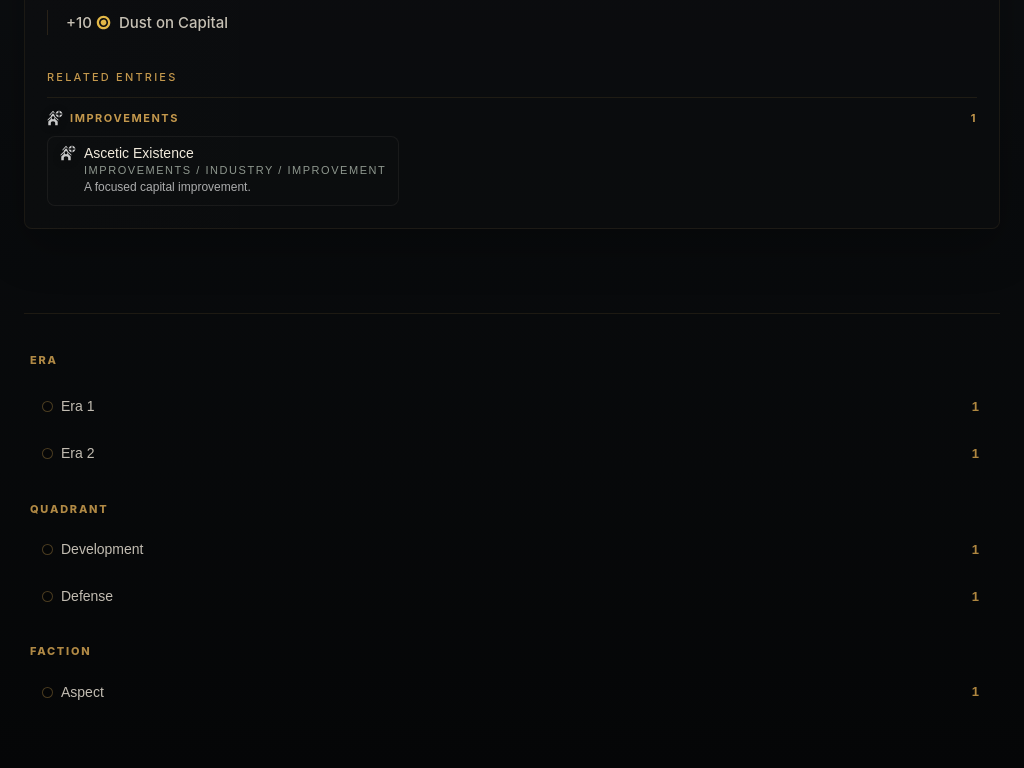
Test case: CodexPage Tech Equipment Hero Unit archives › renders the Tech archive with fact filters, effect previews, compact exact unlock links, and detail-to-filter reset
(page scrolled)
Expected: the button "Era 1 1" is shown, [30,384,990,428]
Expected: the button "Era 2 1" is shown, [30,432,990,476]
Click the button "Development 1".
click(102, 549)  # box [30,527,990,571]
(page scrolled)
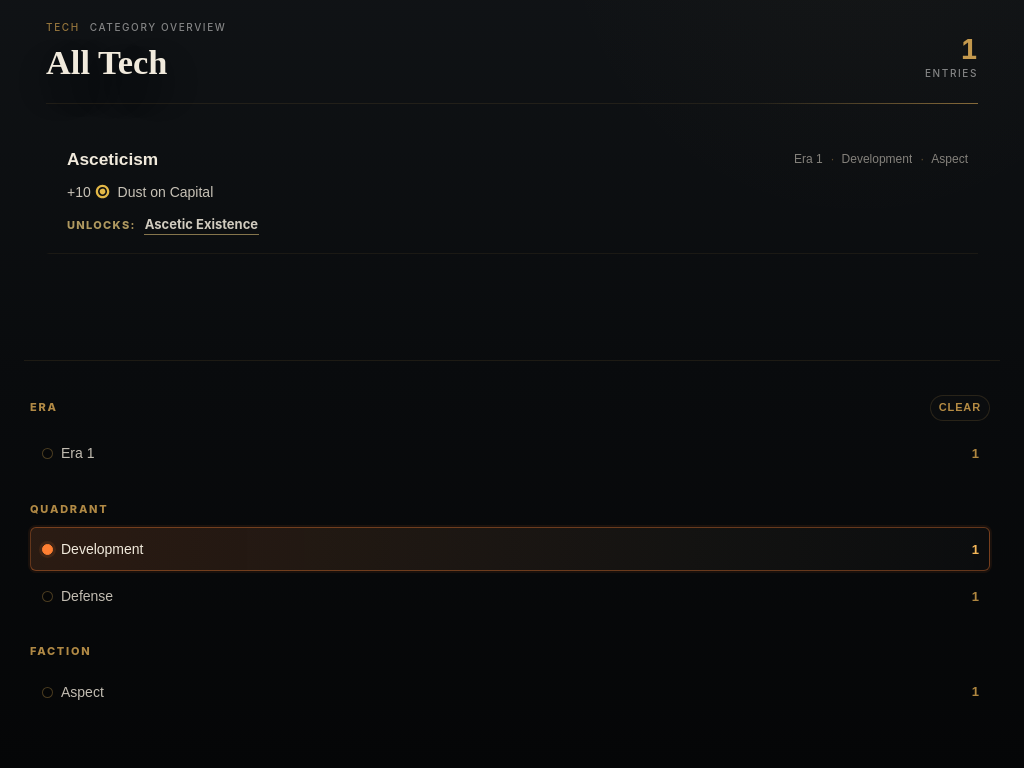
Expected: the element named "Tech overview" does not show "Shield Doctrine", [46,130,978,254]
Now the heading "All Tech" is shown, box [46,45,167,79]
Now the element named "Tech overview" shows "Asceticism", box [67,148,968,203]
Click the button "Development 1".
click(102, 549)  # box [30,527,990,571]
(page scrolled)
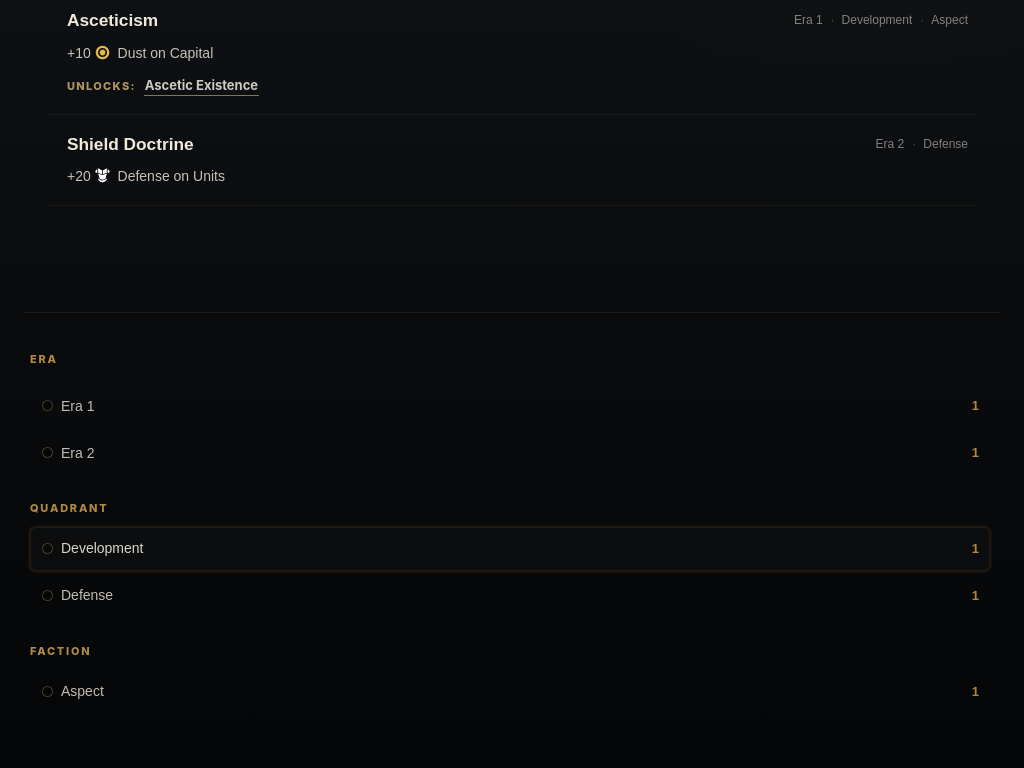
Now the text "Shield Doctrine" is shown, box [67,134,194,154]
Click the button "Era 2 1".
click(78, 452)  # box [30,431,990,475]
(page scrolled)
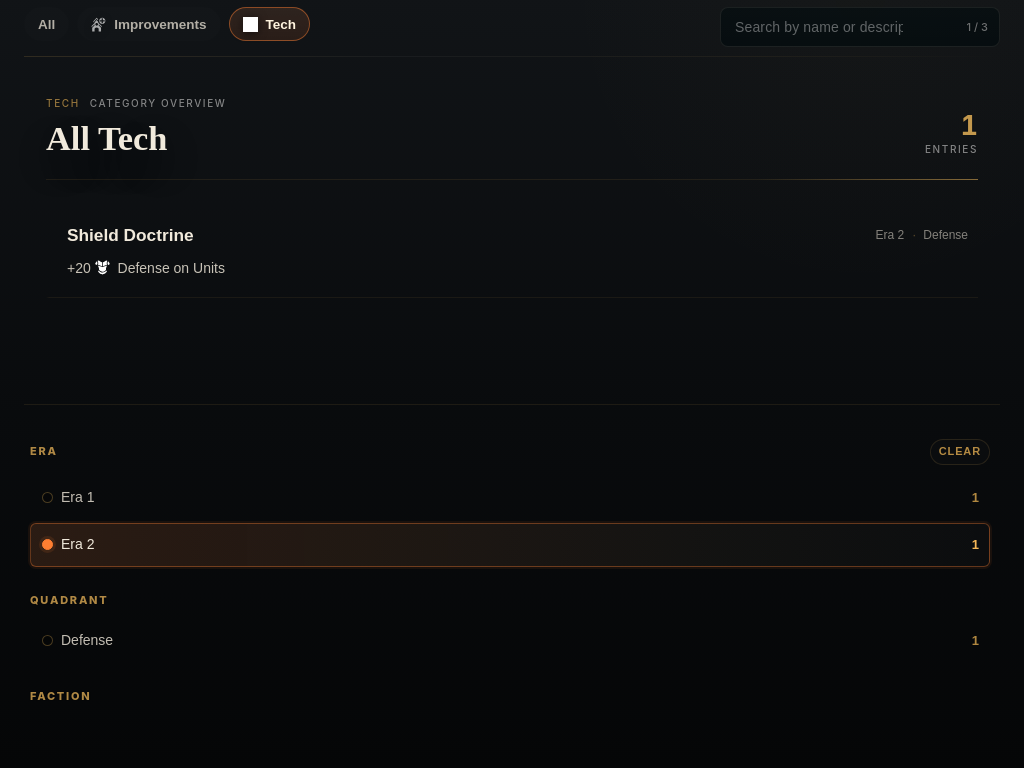
Now the element named "Tech overview" shows "Shield Doctrine", box [67,224,968,279]
Now the element named "Tech overview" no longer shows "Asceticism", box [46,206,978,298]
